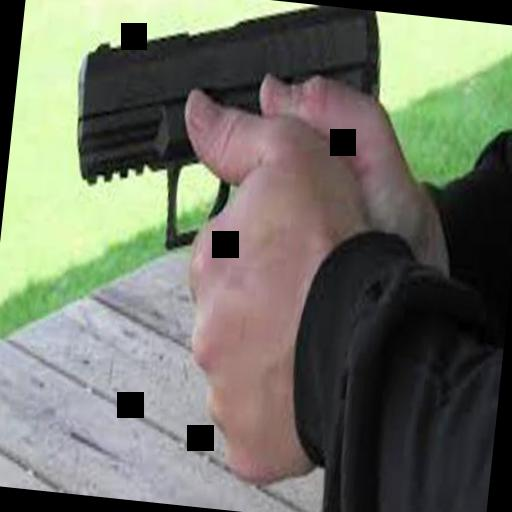Handgun: (48, 0, 398, 260)
